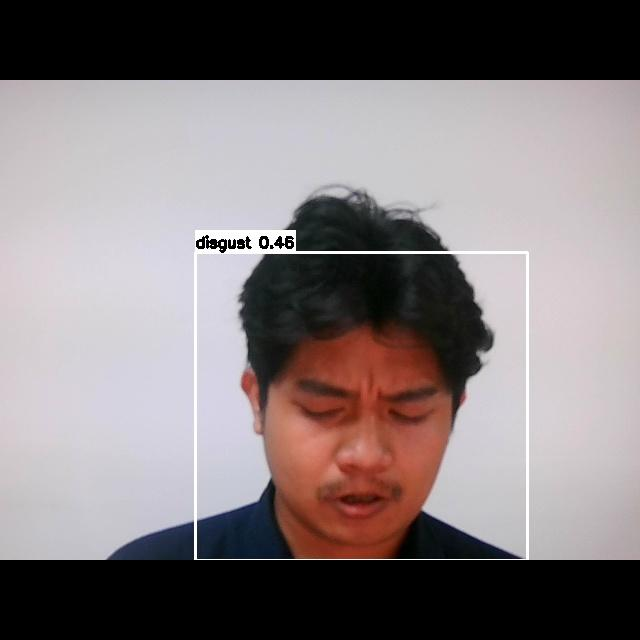Angry: (250, 342, 461, 540)
